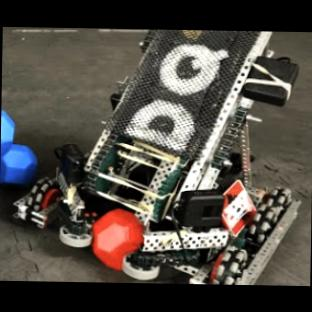Robot: (13, 29, 299, 284)
V5_BLUE: (0, 111, 36, 188)
V5_RED: (94, 208, 142, 265)
